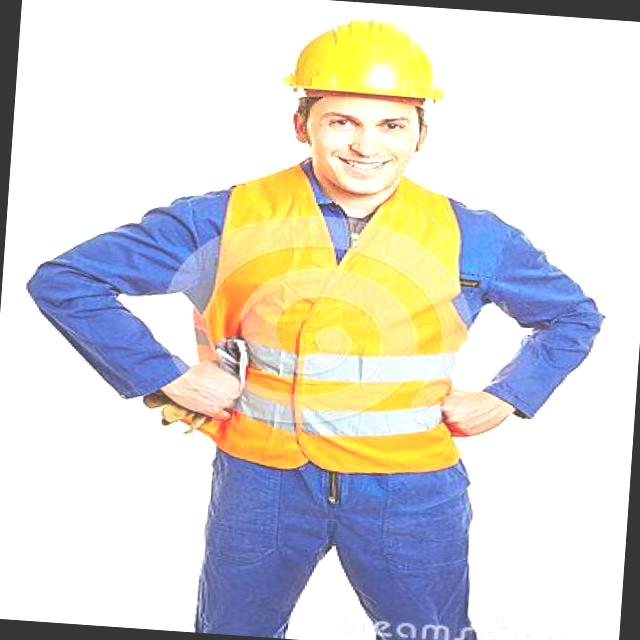helmet: (268, 9, 454, 114)
vest: (180, 158, 494, 488)
